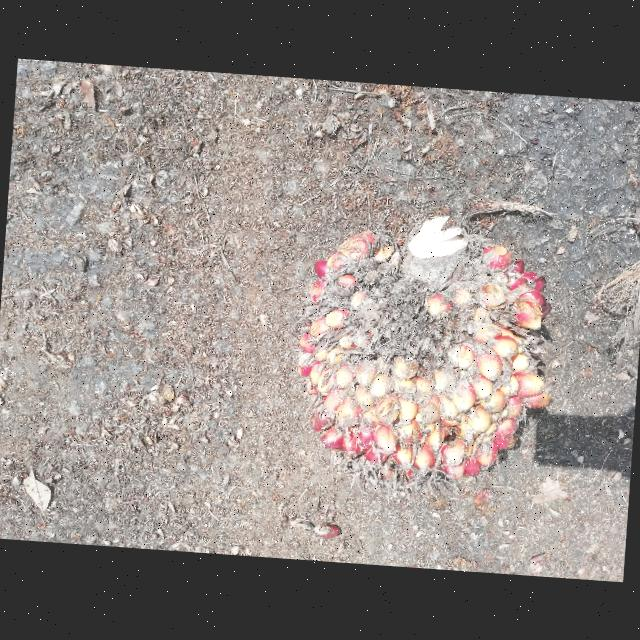Ripe: (294, 213, 555, 492)
